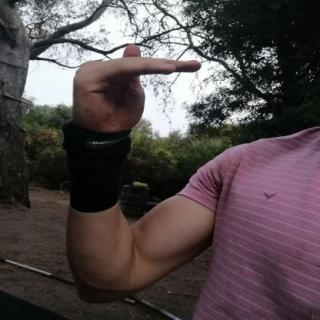KHAA: (56, 35, 212, 141)
